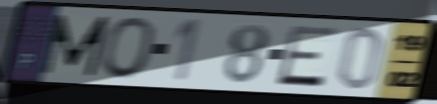0: (335, 25, 385, 93)
1: (170, 16, 202, 85)
8: (220, 20, 273, 87)
E: (273, 23, 341, 90)
M: (40, 12, 112, 78)
O: (97, 15, 158, 81)
